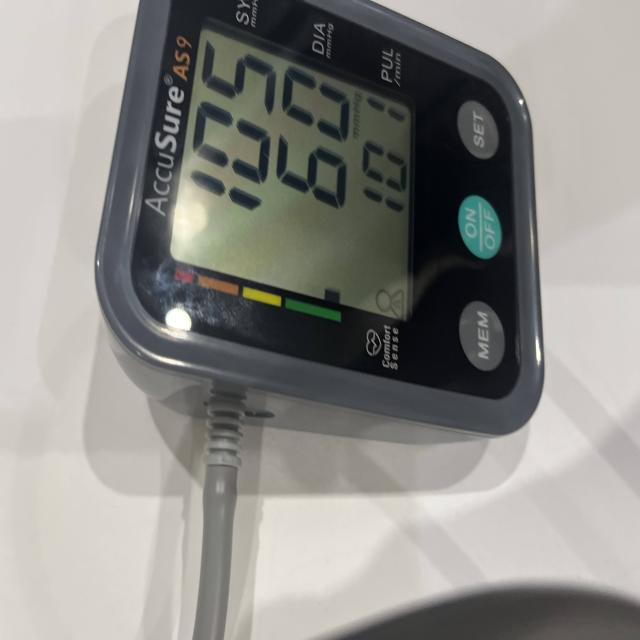bp: (94, 0, 546, 440)
